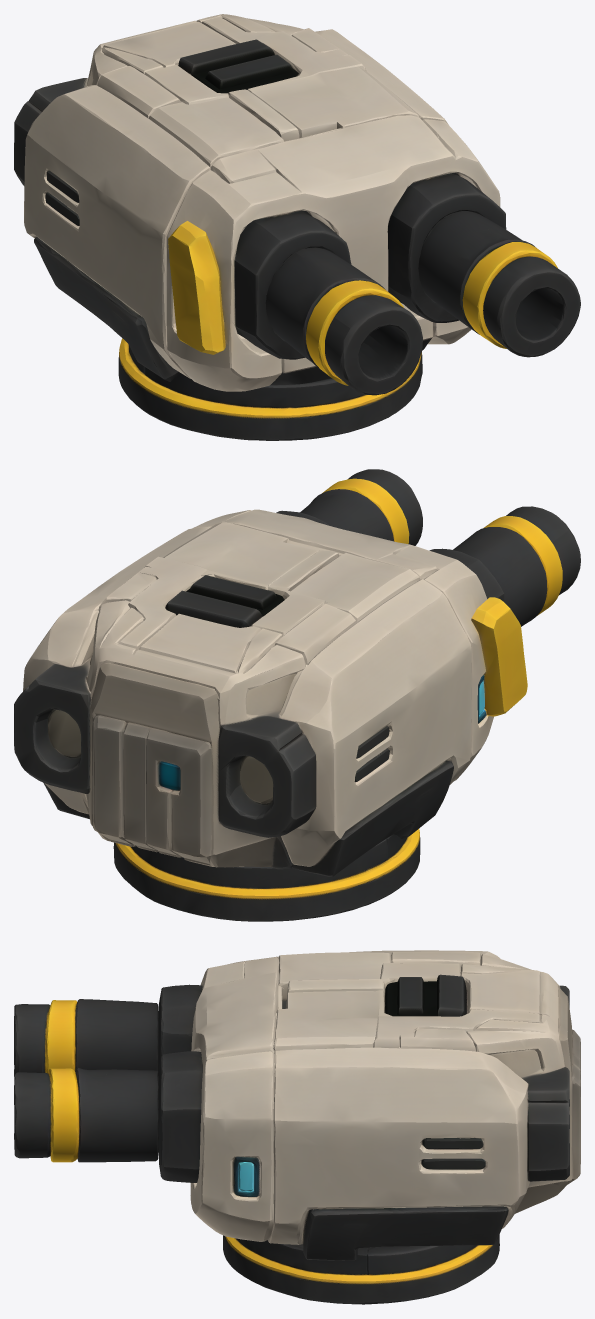
The model's file is t02_pbr.glb.
3 renders of one model, top to bottom at view 1: azimuth 30°, elevation 25°; view 2: azimuth 150°, elevation 25°; view 3: azimuth 270°, elevation 25°, orthographic. The views are drawn at different scales.
Parts seen in each view (by area): view 1: model; view 2: model; view 3: model.
Part boxes in pixels (x1,y1,x2,y2): model: (14, 14, 580, 440); model: (14, 469, 580, 921); model: (14, 950, 580, 1304).
Bounding box in the file's own units: 1.11 × 0.9558 × 1.89.
Materials: 1 (1 with a texture image).
